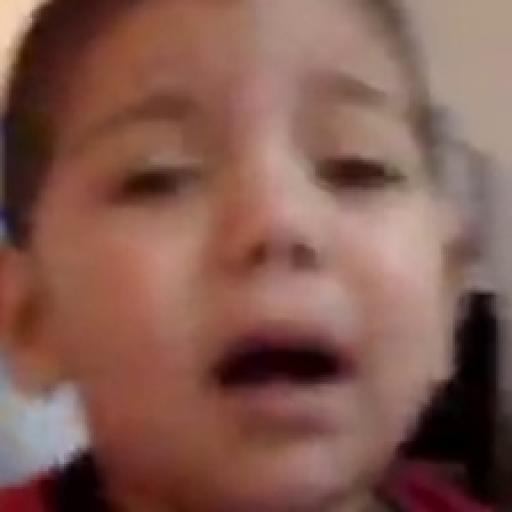Autism: (38, 8, 450, 512)
